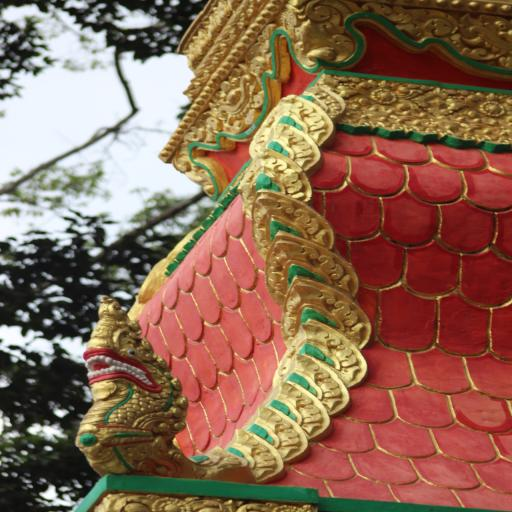hoa: (340, 80, 423, 112), (462, 91, 512, 124), (154, 498, 188, 512)
la: (292, 0, 356, 62), (211, 64, 264, 138), (454, 10, 512, 61), (391, 2, 456, 42)
ran: (72, 305, 198, 476)
